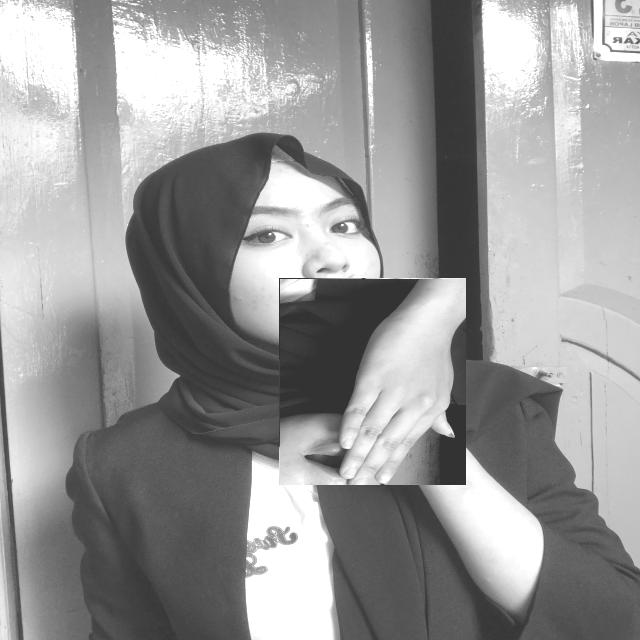ngantuk: (279, 278, 466, 485)
